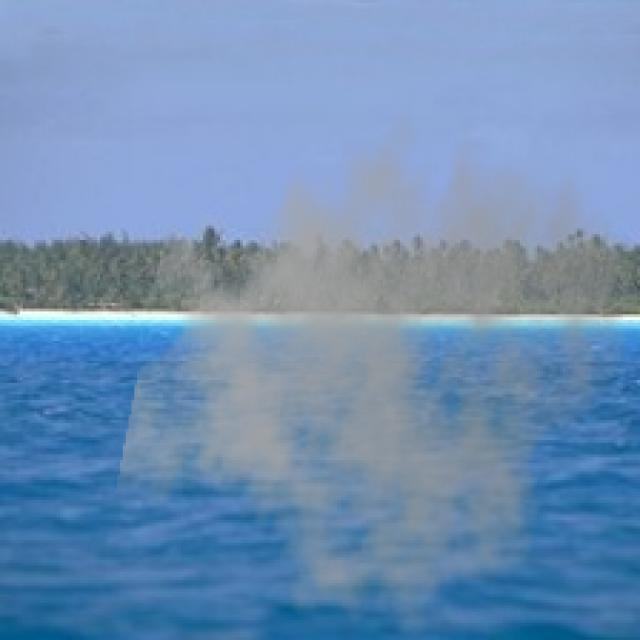smoke: (114, 86, 637, 637)
